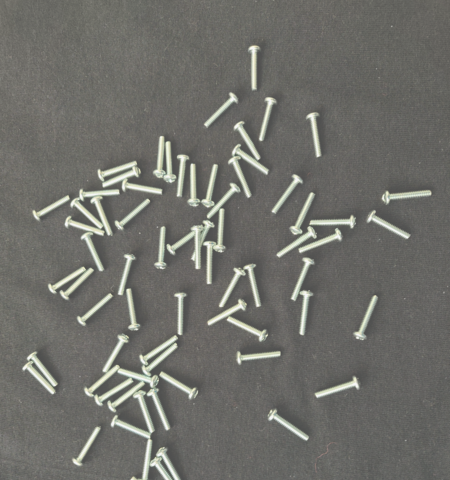longscrew: (267, 406, 311, 442), (204, 91, 241, 129), (141, 342, 180, 378), (367, 209, 412, 240), (352, 293, 381, 341), (276, 226, 318, 259), (205, 183, 242, 220), (76, 294, 116, 328), (106, 381, 147, 414), (272, 174, 305, 215), (59, 266, 96, 302), (159, 369, 200, 401), (72, 425, 103, 467), (82, 365, 121, 398), (27, 350, 60, 389), (232, 143, 271, 176), (226, 314, 270, 343), (298, 228, 345, 255), (93, 378, 135, 408), (22, 361, 58, 396), (290, 257, 318, 302), (315, 374, 363, 400), (289, 192, 317, 236), (139, 336, 180, 366), (115, 199, 152, 232), (218, 267, 247, 309), (101, 334, 131, 374), (47, 266, 87, 296), (207, 299, 249, 327), (81, 232, 109, 274), (70, 198, 106, 230), (147, 388, 173, 432), (234, 121, 262, 161), (111, 415, 153, 441), (190, 220, 216, 262), (228, 157, 254, 199), (133, 390, 157, 435), (31, 195, 71, 222), (117, 366, 161, 389), (235, 347, 283, 368), (156, 447, 186, 480), (243, 263, 265, 308), (259, 96, 280, 143), (90, 196, 114, 237), (117, 253, 139, 297), (97, 160, 139, 183), (102, 166, 142, 189), (64, 216, 105, 238), (201, 164, 221, 209), (298, 290, 317, 337), (305, 112, 324, 159), (381, 189, 433, 206), (166, 230, 198, 257), (124, 288, 143, 332), (247, 45, 264, 93), (202, 241, 220, 286), (309, 215, 358, 231), (149, 457, 183, 480), (136, 439, 155, 480), (122, 179, 164, 197), (173, 292, 189, 337), (154, 226, 170, 271), (152, 136, 168, 180), (177, 154, 192, 200), (78, 187, 121, 203), (187, 164, 202, 208), (215, 210, 230, 253), (163, 141, 178, 184), (191, 225, 205, 270), (130, 476, 169, 480)
